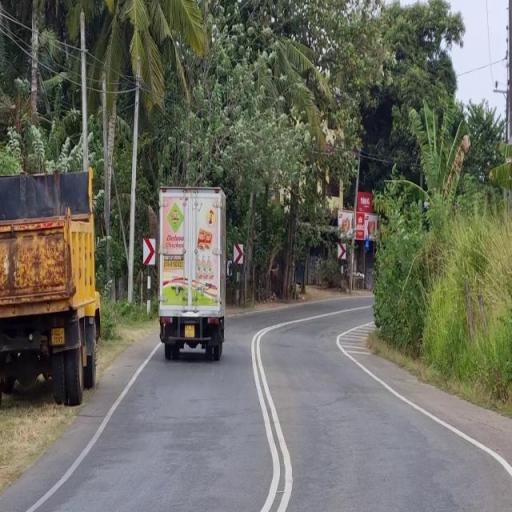double_white_line: (336, 323, 510, 478), (248, 323, 294, 512), (0, 6, 34, 59)
